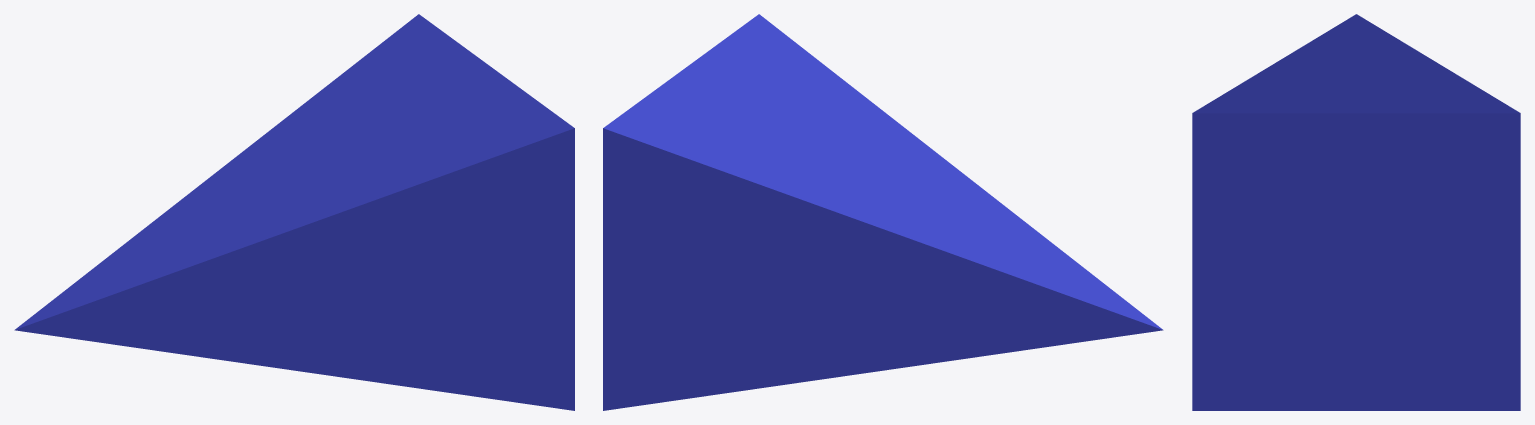
Rendered from BoidModle.fbx.
3 renders of one model, left to right at view 1: azimuth 30°, elevation 25°; view 2: azimuth 150°, elevation 25°; view 3: azimuth 270°, elevation 25°, orthographic. The views are drawn at different scales.
Visible parts, largest first — view 1: root; view 2: root; view 3: root.
Part boxes in pixels (bbox=[...]): root: bbox=[14, 14, 574, 410]; root: bbox=[603, 14, 1163, 410]; root: bbox=[1192, 14, 1520, 410].
Size of the model in its own units: 0.351 by 0.1965 by 0.1965.
